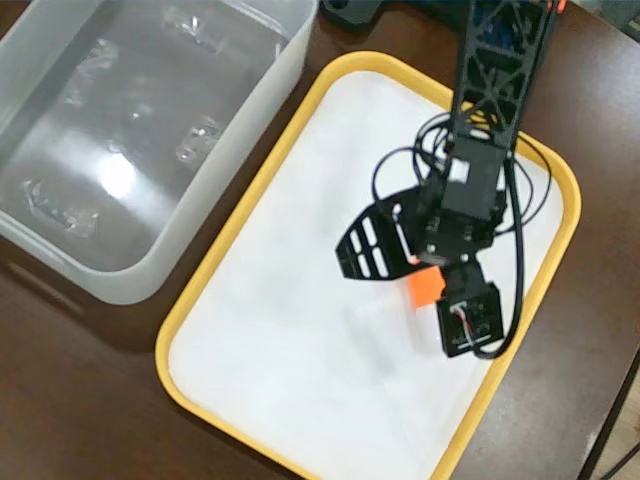pill: (405, 262, 452, 351)
